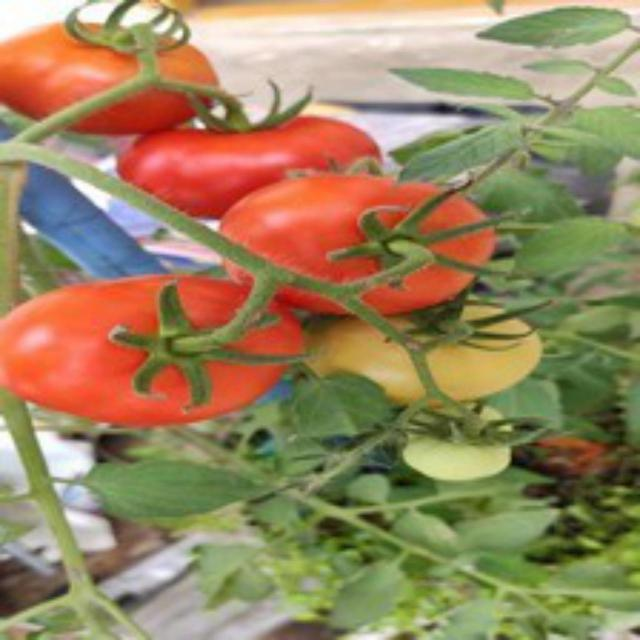tomato: (1, 256, 308, 426)
